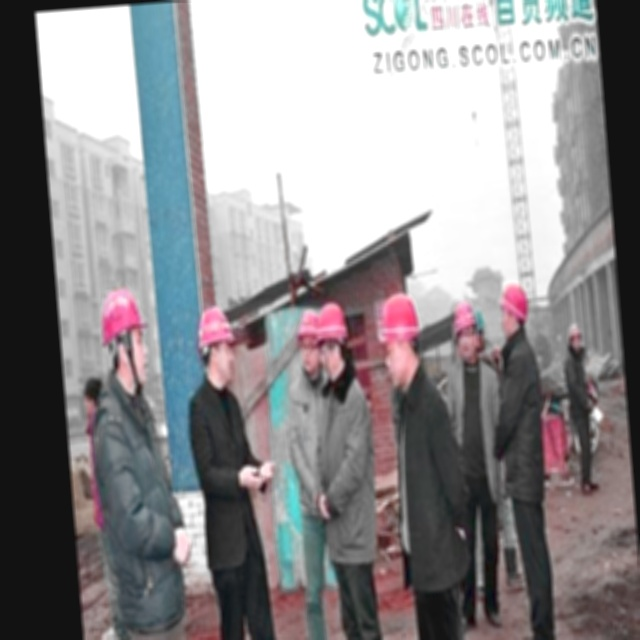Con_Casco: (100, 289, 151, 386), (381, 294, 423, 389), (196, 306, 236, 383)
Sin_Chaleco: (188, 397, 260, 556), (316, 388, 380, 565)
